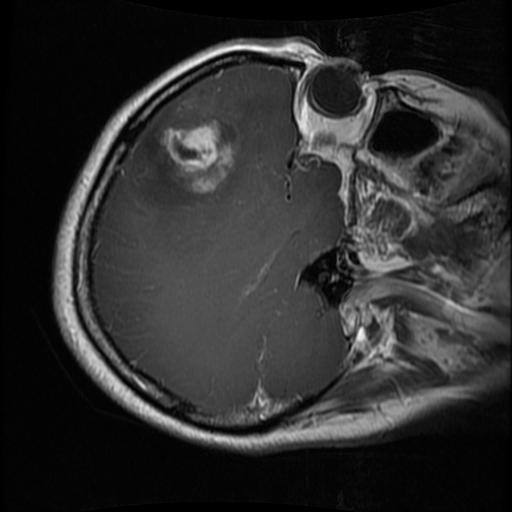glioma: (158, 123, 235, 192)
